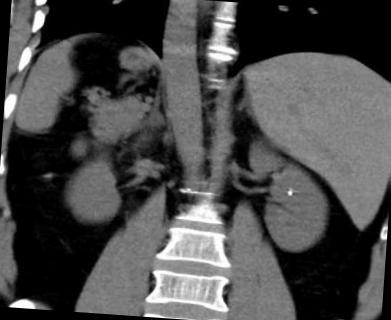Tas_Var: (285, 190, 294, 198)
